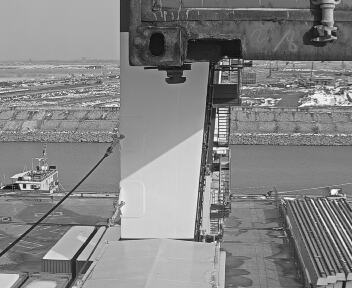twist_lock_1: (152, 59, 199, 90)
